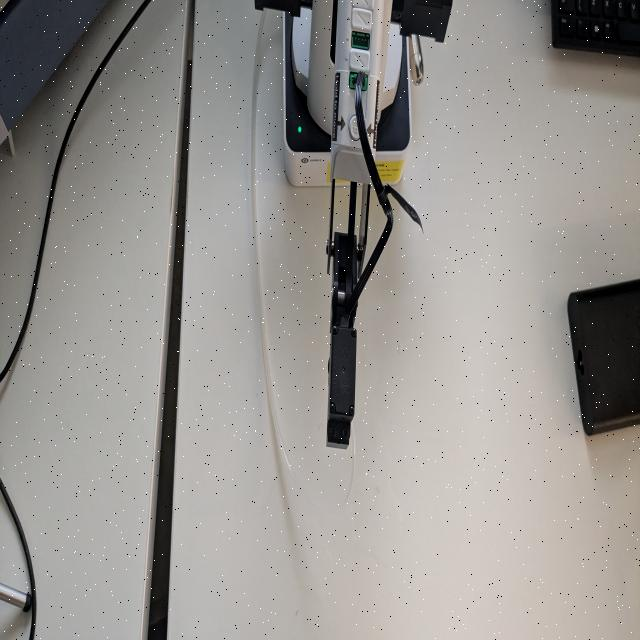Robot-end-effector-HF8z: (324, 321, 358, 454)
